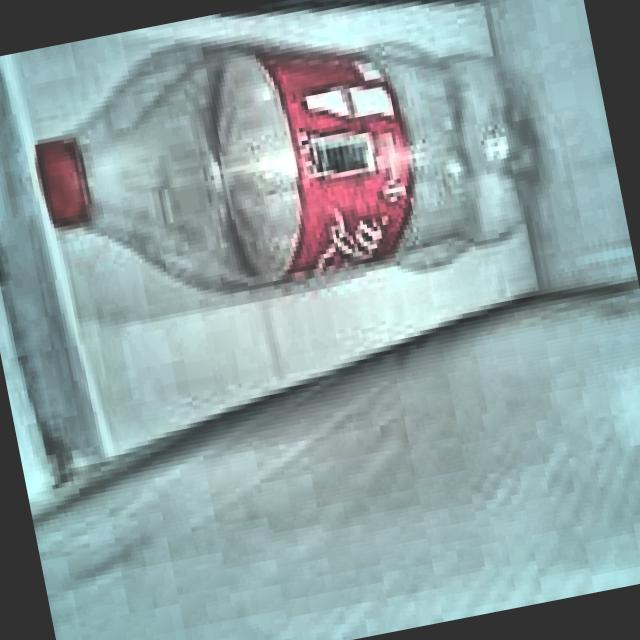plastic bottle: (33, 43, 533, 291)
